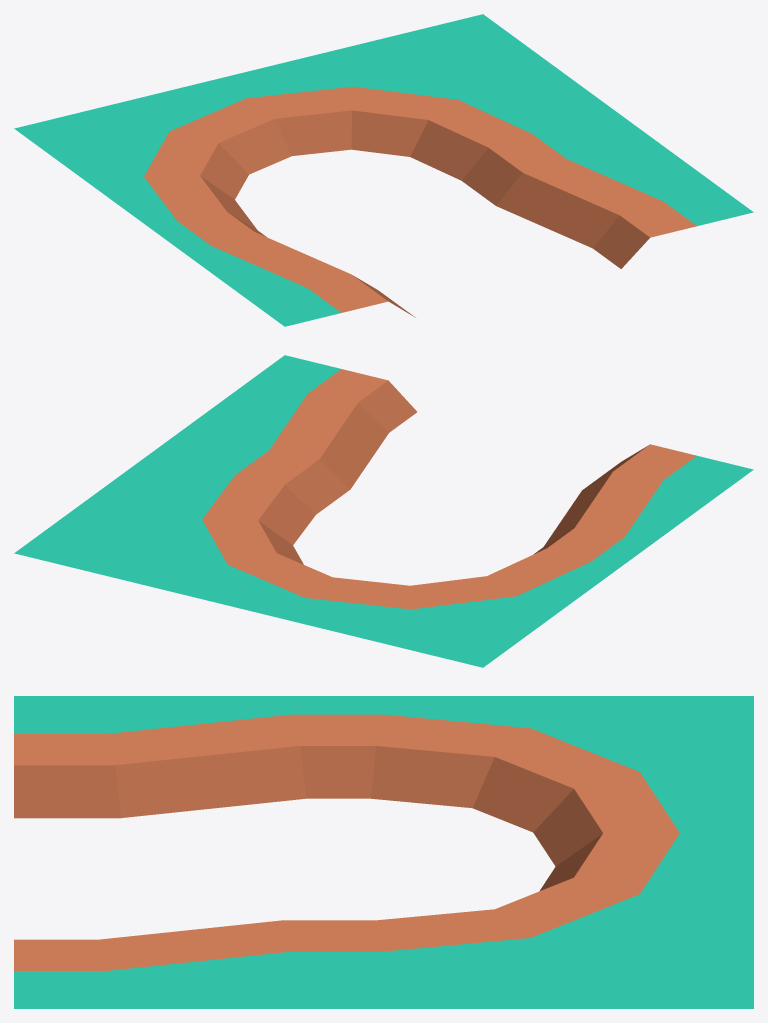
The model's file is beachend.obj.
3 views of the same model, one above another, from view 1: azimuth 30°, elevation 25°; view 2: azimuth 150°, elevation 25°; view 3: azimuth 270°, elevation 25° (orthographic). The views are drawn at different scales.
Parts seen in each view (by area): view 1: ground_riverEndClosed; view 2: ground_riverEndClosed; view 3: ground_riverEndClosed.
Boxes of the visible parts, x1,y1,x2,y2 form: ground_riverEndClosed: (14,14,753,326); ground_riverEndClosed: (14,355,753,667); ground_riverEndClosed: (14,696,753,1008).
Size of the model in its own units: 1 by 0.05 by 1.
